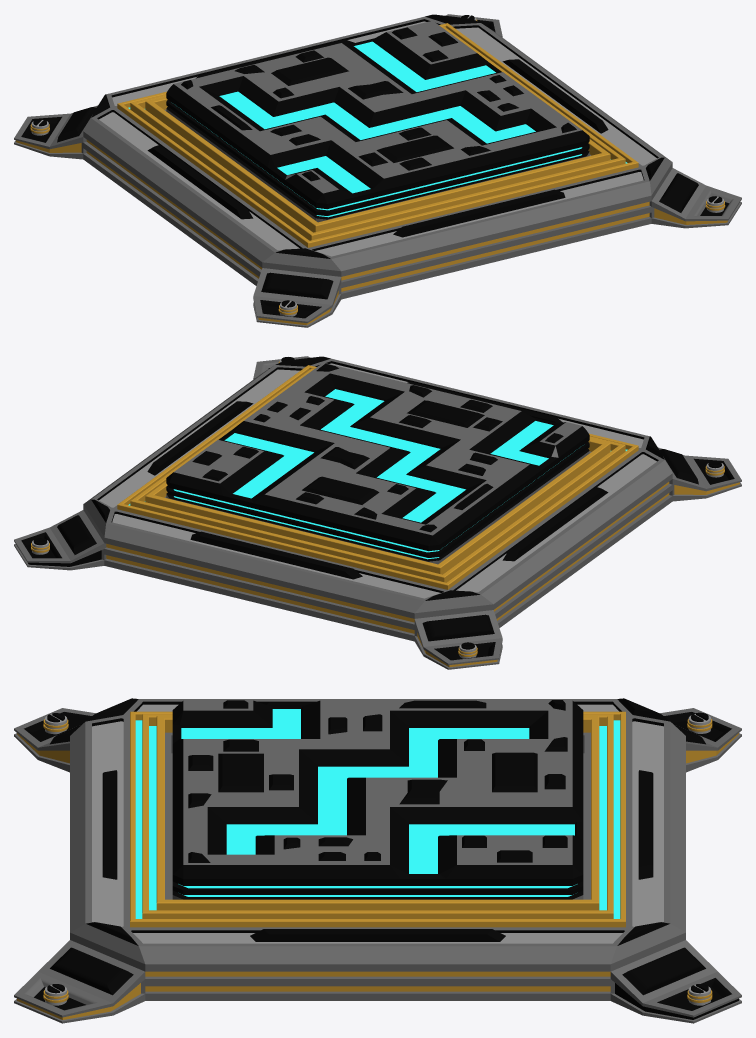
File: Plaque de pression.fbx
3 renders of one model, top to bottom at view 1: azimuth 30°, elevation 25°; view 2: azimuth 150°, elevation 25°; view 3: azimuth 270°, elevation 25°, orthographic. The views are drawn at different scales.
Parts seen in each view (by area): view 1: Support, Plaque de Pression; view 2: Support, Plaque de Pression; view 3: Support, Plaque de Pression.
Part boxes in pixels (<box>): Support: <box>14,14,741,327</box>; Plaque de Pression: <box>166,20,589,222</box>; Support: <box>14,356,741,669</box>; Plaque de Pression: <box>166,362,589,564</box>; Support: <box>14,698,741,1023</box>; Plaque de Pression: <box>172,700,583,899</box>.
Size of the model in its own units: 173 by 24.62 by 173.
